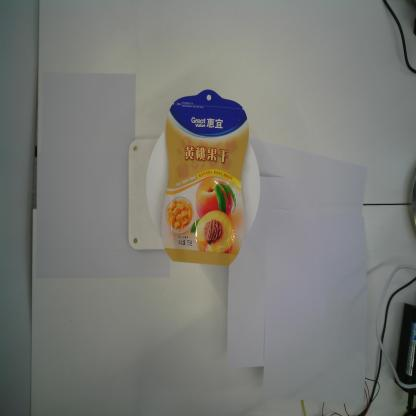Dried Fruit: (161, 88, 249, 266)
